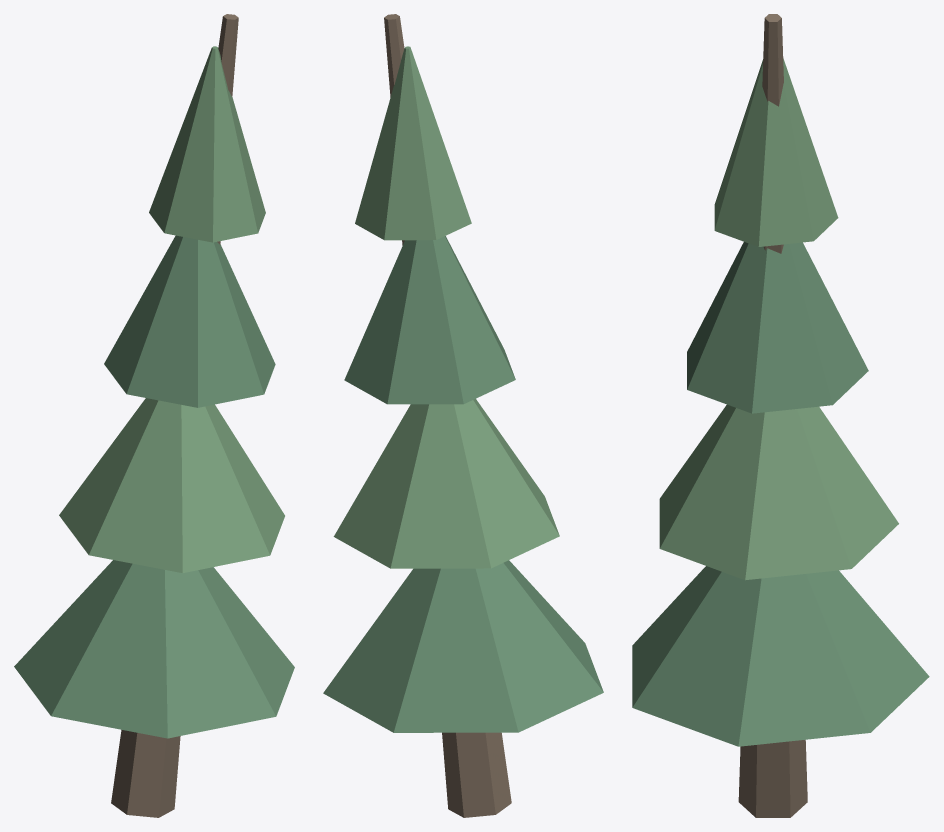
File: pine_v09.glb
3 renders of one model, left to right at view 1: azimuth 30°, elevation 25°; view 2: azimuth 150°, elevation 25°; view 3: azimuth 270°, elevation 25°, orthographic. The views are drawn at different scales.
Visible parts, largest first — view 1: lod0; view 2: lod0; view 3: lod0.
Boxes of the visible parts, x1,y1,x2,y2 form: lod0: [14, 14, 294, 817]; lod0: [323, 14, 603, 817]; lod0: [632, 14, 929, 817].
Size of what is drawn, in the model's own units: 1.76 by 5.33 by 1.72.
